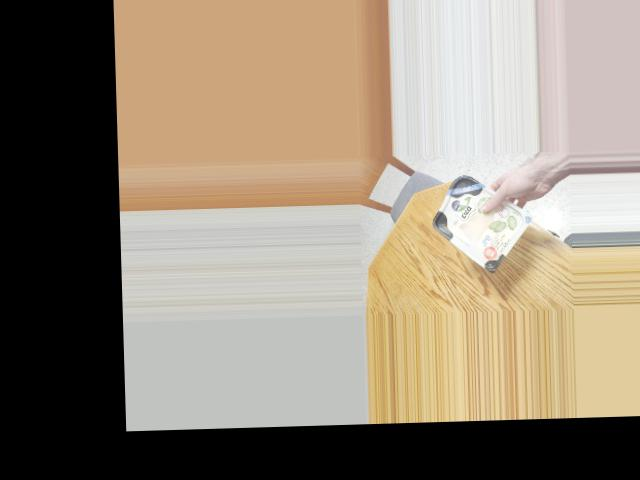cheese: (431, 171, 517, 266)
